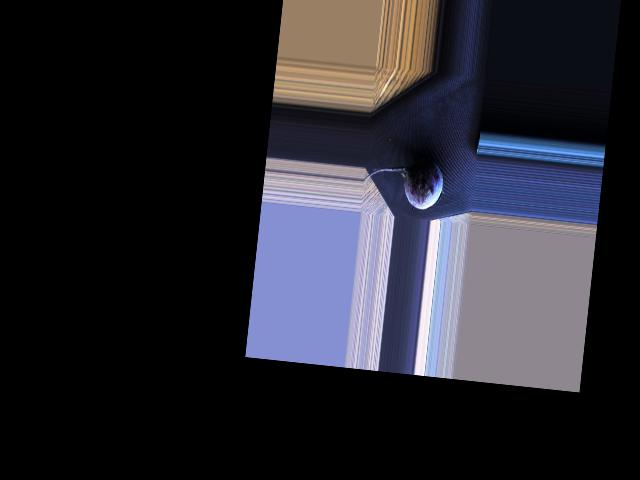beet: (361, 151, 445, 210)
